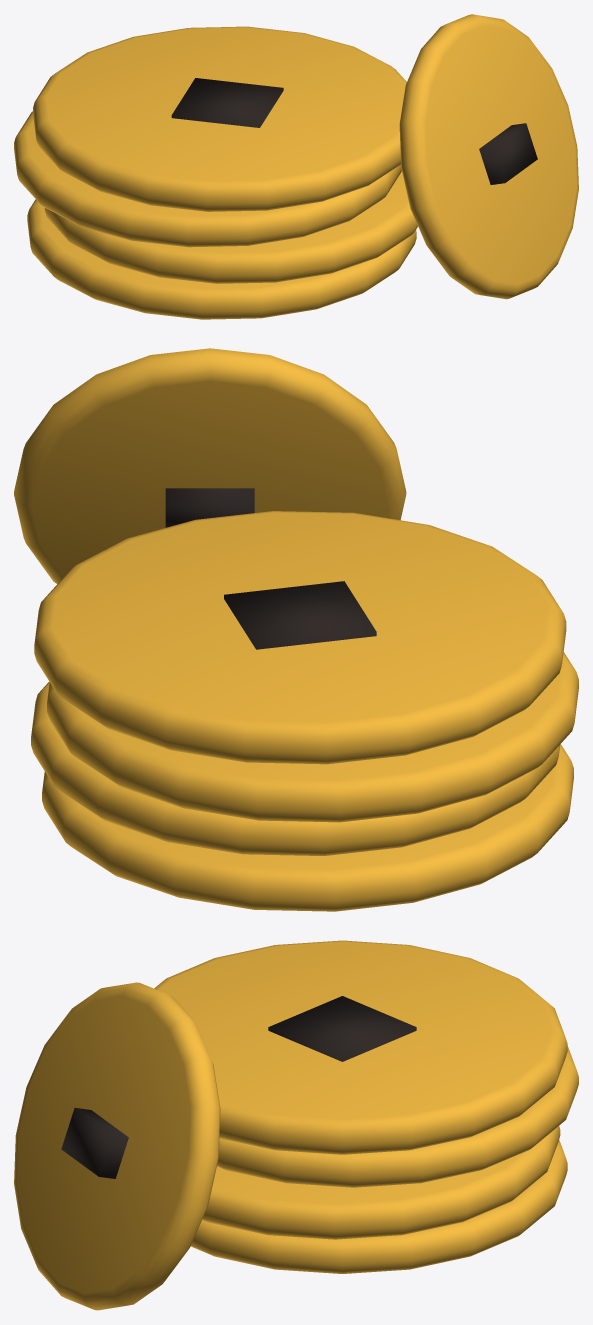
File: Coin.fbx
3 renders of one model, top to bottom at view 1: azimuth 30°, elevation 25°; view 2: azimuth 150°, elevation 25°; view 3: azimuth 270°, elevation 25°, orthographic. The views are drawn at different scales.
Parts seen in each view (by area): view 1: Coin; view 2: Coin; view 3: Coin.
Part boxes in pixels (x1,y1,x2,y2): Coin: (14,14,578,319); Coin: (14,348,578,911); Coin: (14,940,578,1310).
Size of the model in its own units: 0.8113 by 0.4169 by 0.7526.
